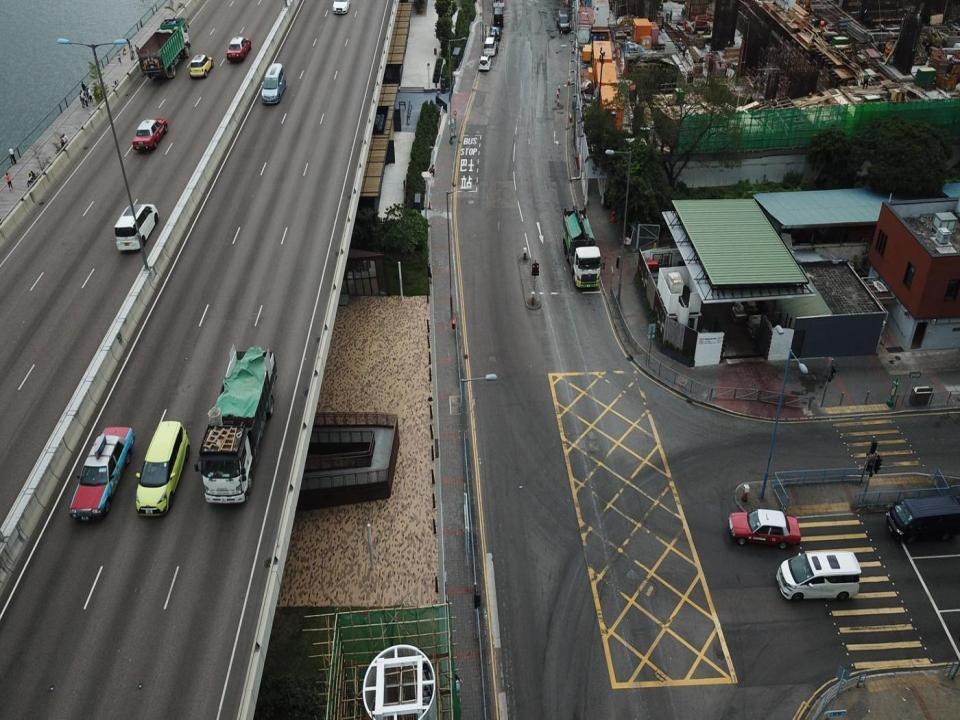car: (67, 424, 135, 524), (129, 420, 187, 518), (774, 549, 861, 603), (727, 506, 801, 549), (114, 203, 159, 255), (130, 118, 168, 151), (260, 62, 287, 104), (226, 35, 252, 61), (191, 54, 214, 78), (556, 4, 568, 33), (484, 34, 498, 56), (490, 23, 503, 40), (479, 53, 491, 70)
truck: (194, 345, 280, 506), (135, 18, 191, 84), (560, 205, 602, 292)
van: (884, 495, 960, 543), (492, 5, 504, 24)
